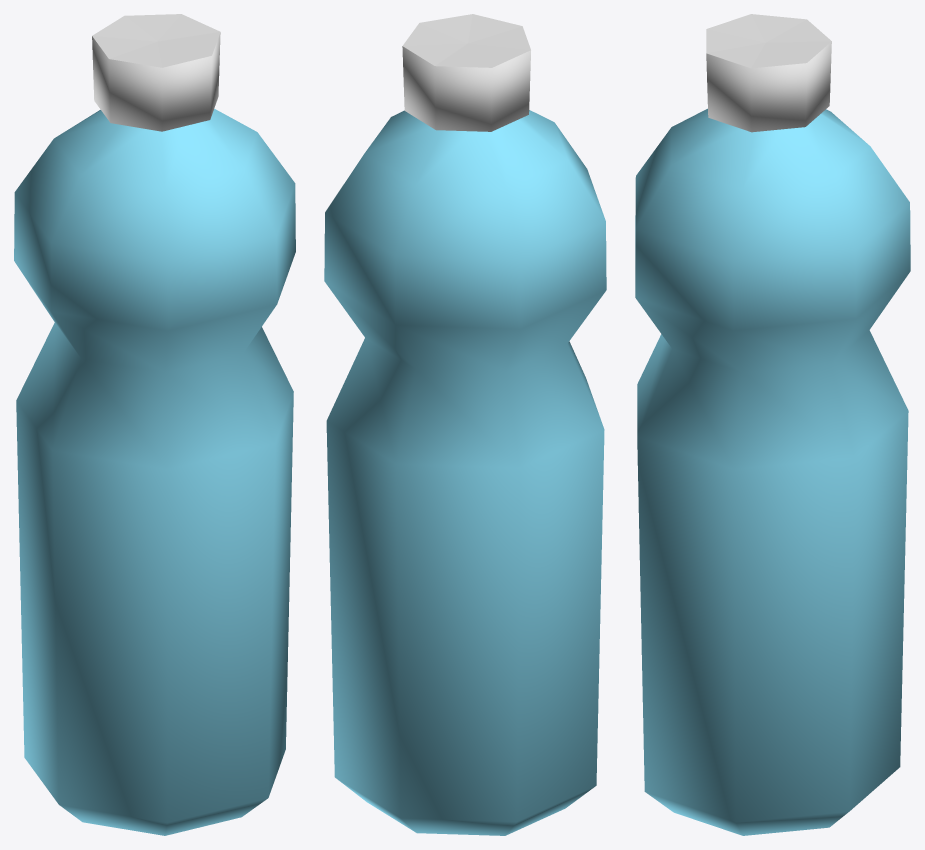
Rendered from BottlePlastic.fbx.
3 renders of one model, left to right at view 1: azimuth 30°, elevation 25°; view 2: azimuth 150°, elevation 25°; view 3: azimuth 270°, elevation 25°, orthographic.
Parts seen in each view (by area): view 1: BottlePlastic; view 2: BottlePlastic; view 3: BottlePlastic.
Boxes of the visible parts, x1,y1,x2,y2 form: BottlePlastic: (14,14,295,835); BottlePlastic: (324,14,606,835); BottlePlastic: (635,14,910,835).
Bounding box in the file's own units: 32.43 × 95.3 × 31.61.
